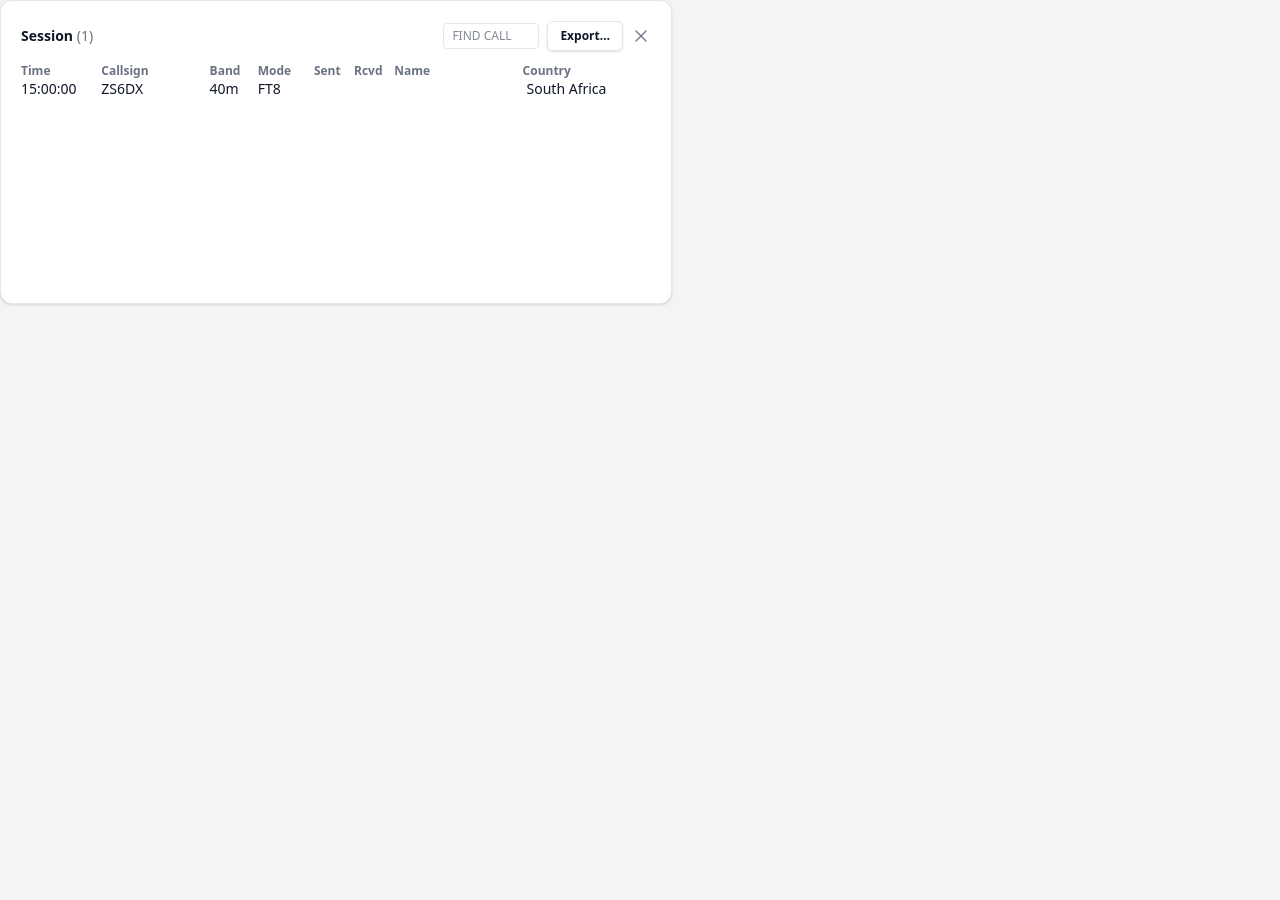
Test: SessionPanel › opens the in-place edit modal from a row callsign (no route change)
The width and height of the screenshot is (1280, 900).
What coordinates should you click on to do the following:
click the button "ZS6DX"
I would click on:
 (122, 89)
Its box is [101,79,143,99].
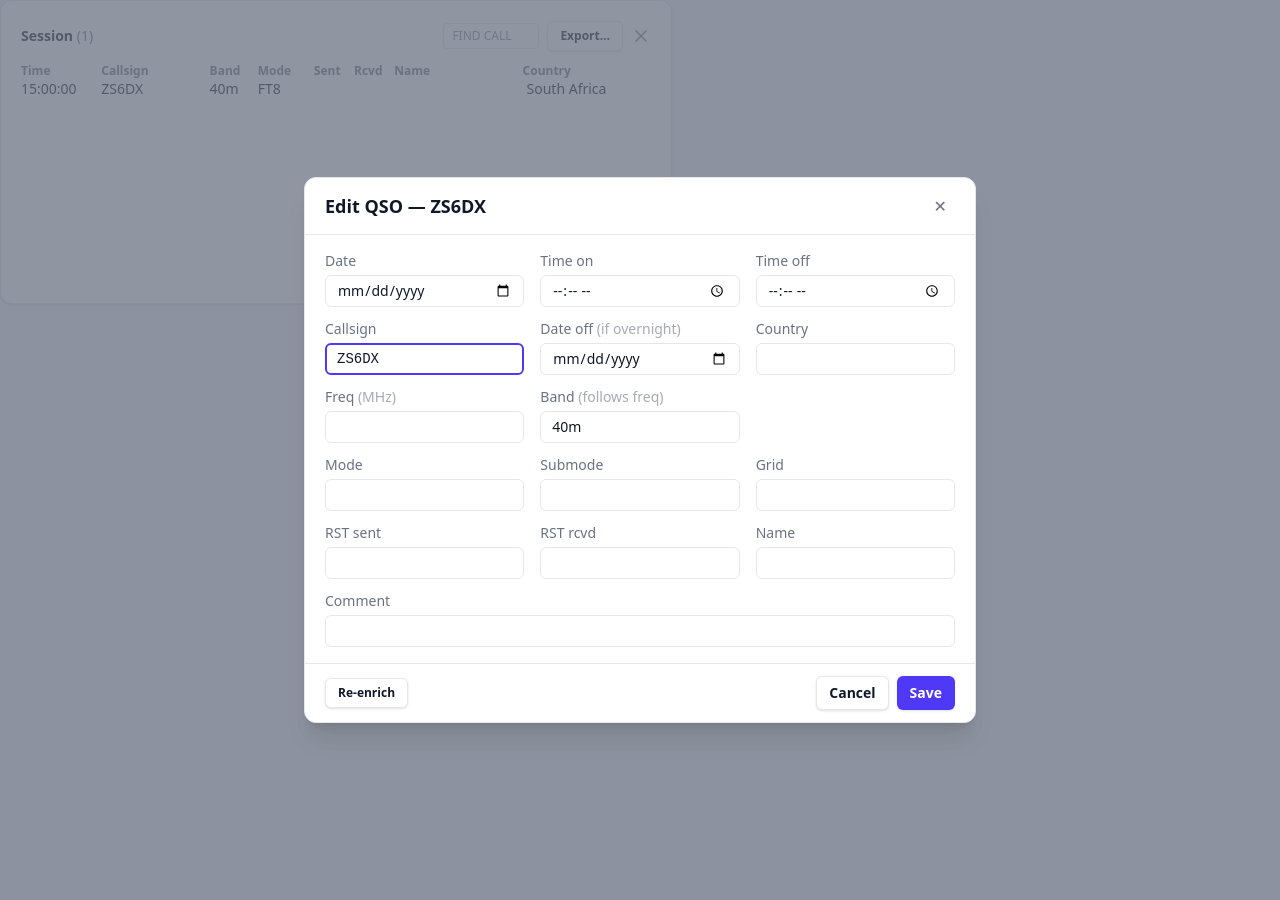
Expected: the dialog "Edit QSO" is shown, [304,177,976,723]
